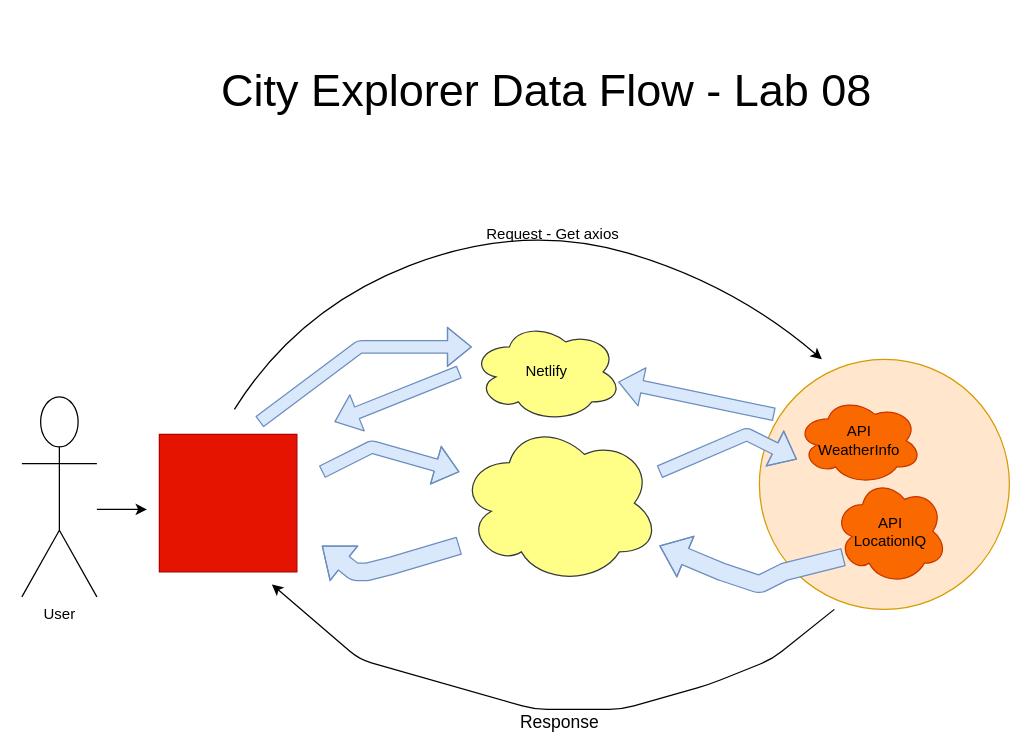
Some shapes in this 1031 by 755 pixel diagram are drawn without their labels. The centre of each missing label's shape, as x and y in pixels:
Heroku: [558,502]
Our React Web App City Explorer: [227,502]
